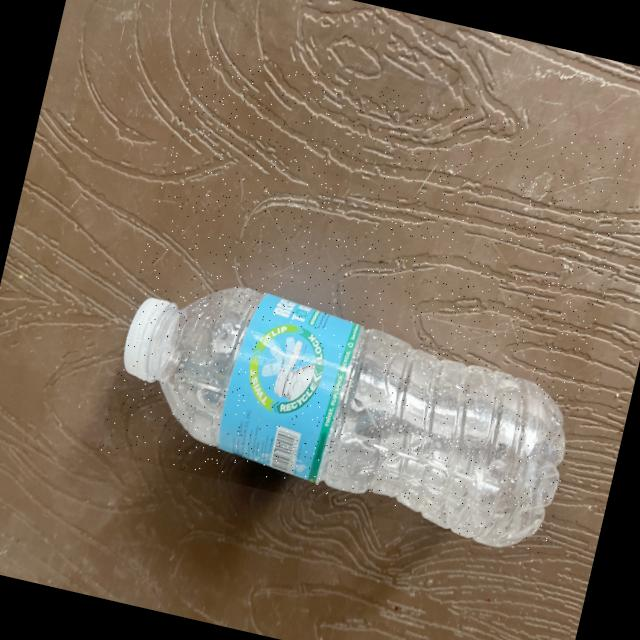REJECT: (97, 41, 640, 554)
